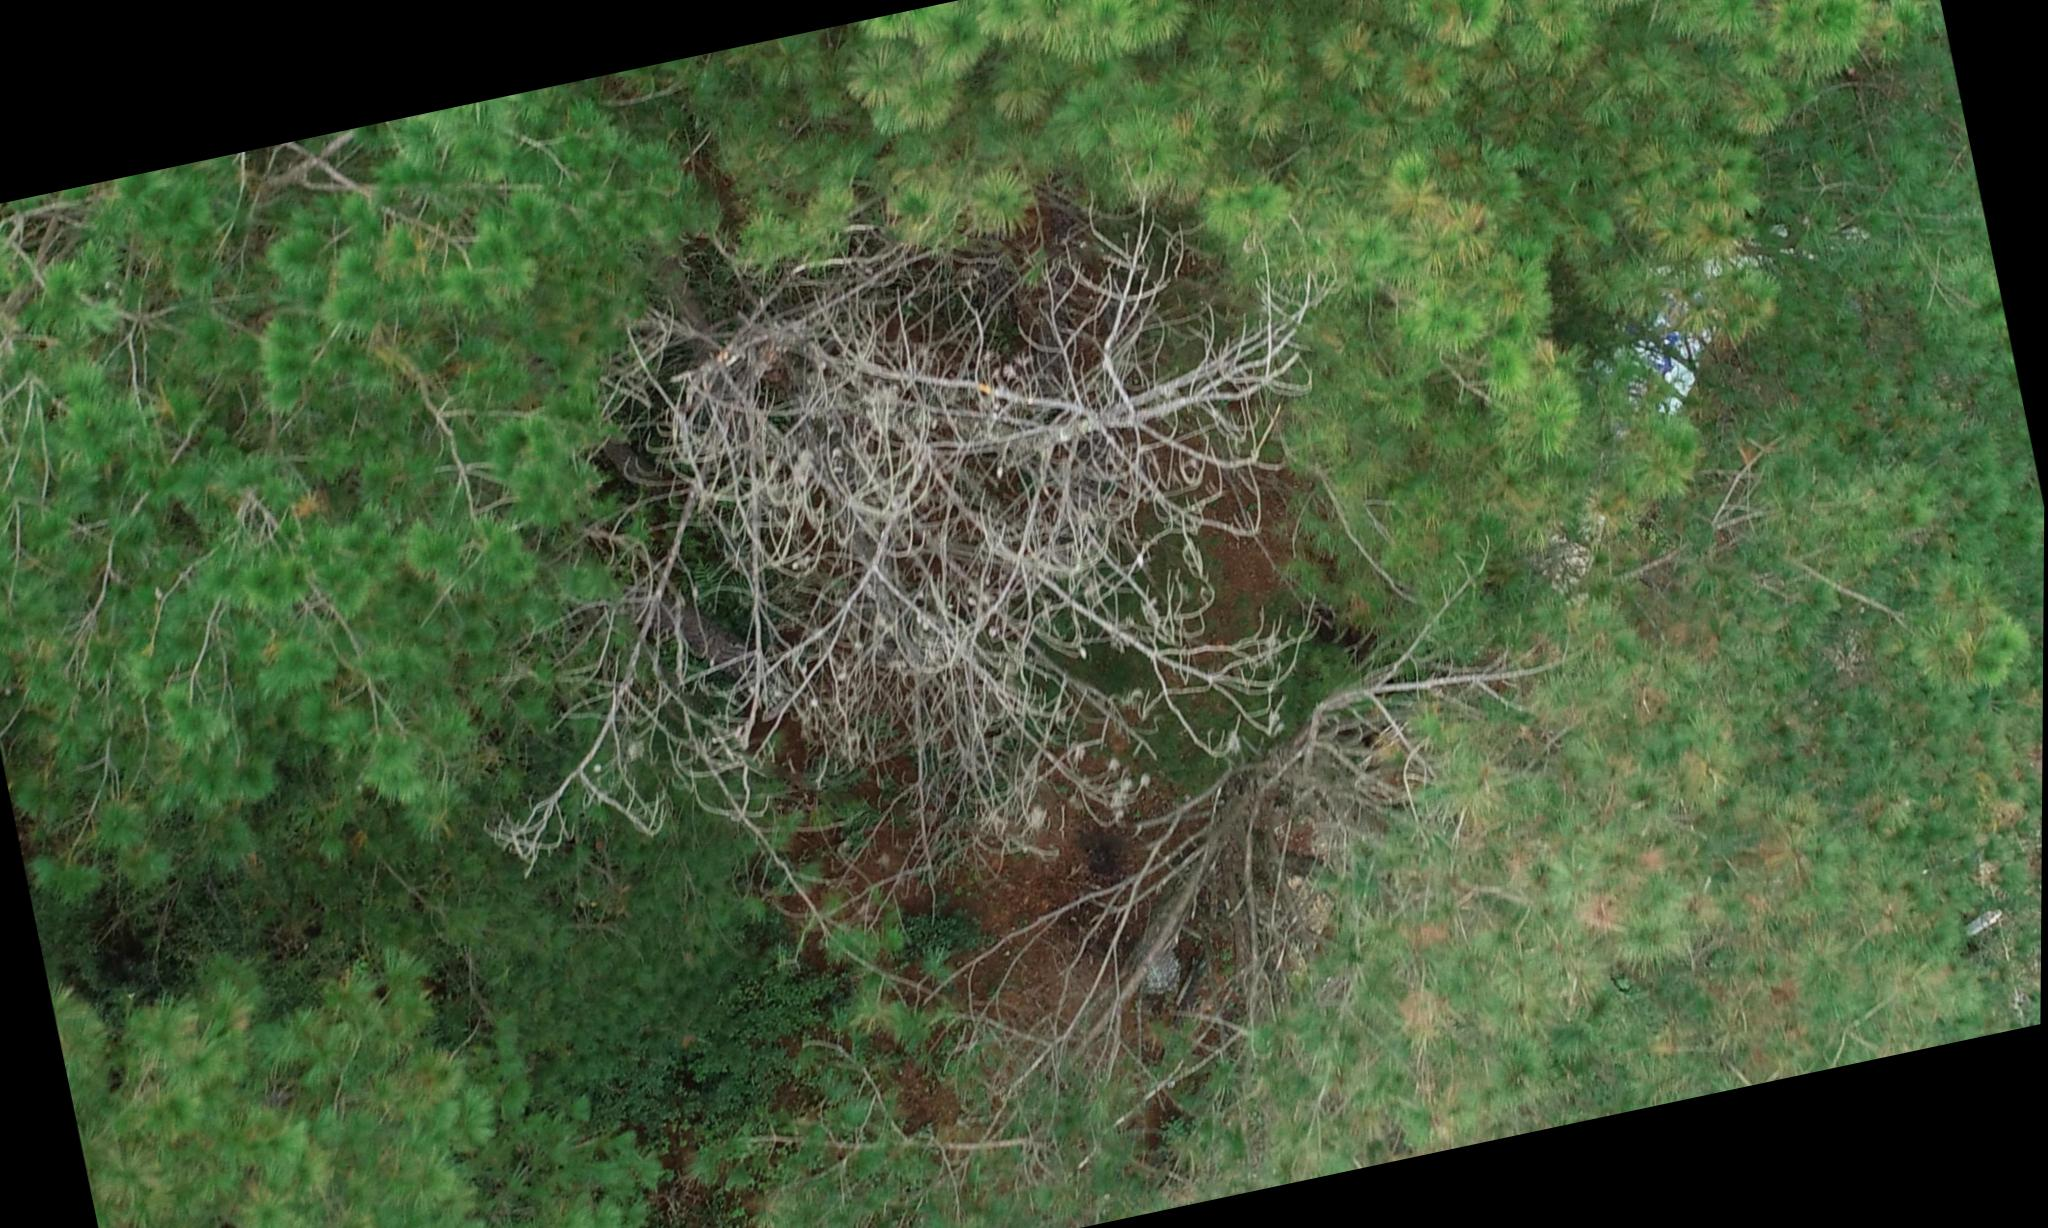dead: (490, 117, 1408, 930)
light: (1286, 0, 2014, 626), (1281, 680, 2022, 1170), (51, 884, 633, 1228)
